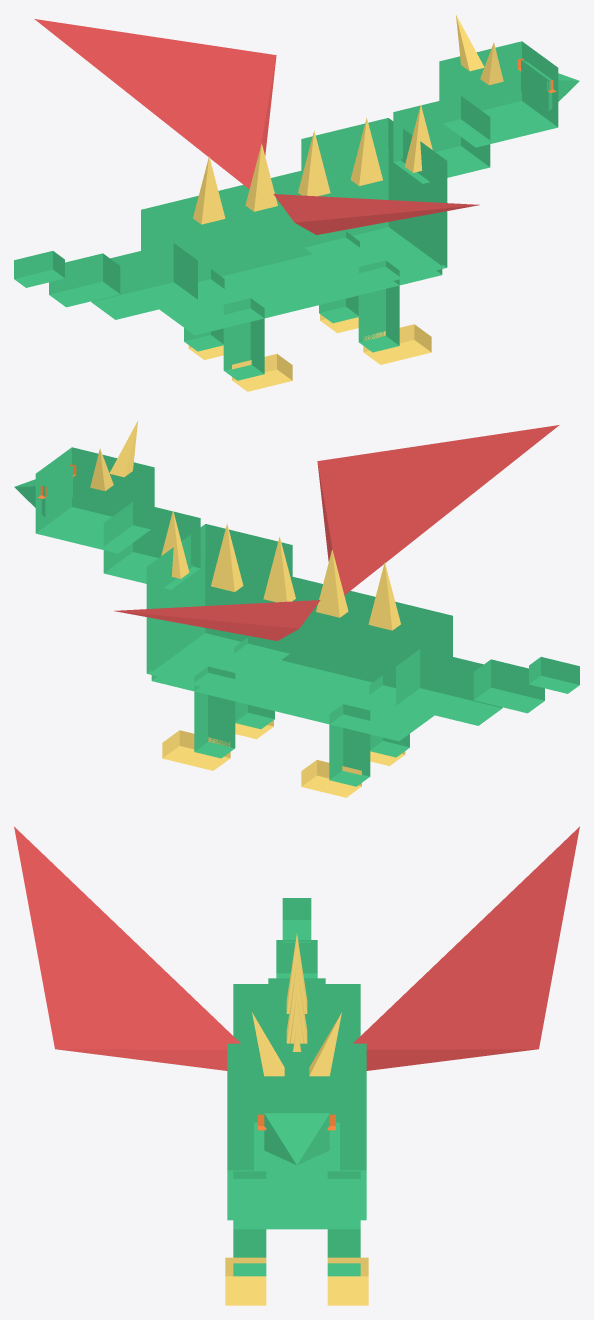
The model's file is living_emblem_dragon.glb.
3 renders of one model, top to bottom at view 1: azimuth 30°, elevation 25°; view 2: azimuth 150°, elevation 25°; view 3: azimuth 270°, elevation 25°, orthographic. The views are drawn at different scales.
Visible parts, largest first — view 1: Temporary 3D Dragon Placeholder - replace with final rigged ; view 2: Temporary 3D Dragon Placeholder - replace with final rigged ; view 3: Temporary 3D Dragon Placeholder - replace with final rigged .
Boxes of the visible parts, <box> form: Temporary 3D Dragon Placeholder - replace with final rigged : <box>14,15,579,391</box>; Temporary 3D Dragon Placeholder - replace with final rigged : <box>14,421,579,797</box>; Temporary 3D Dragon Placeholder - replace with final rigged : <box>14,826,579,1305</box>.
Bounding box in the file's own units: 3.73 × 1.81 × 2.76.
